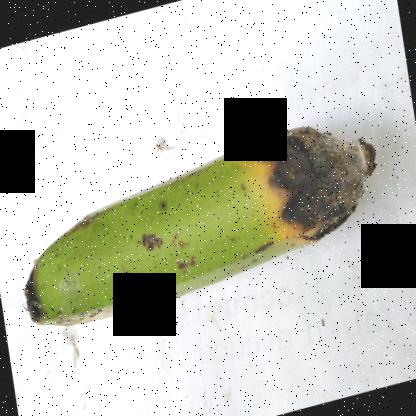rotten: (219, 118, 396, 246)
unripe: (17, 141, 227, 352)
